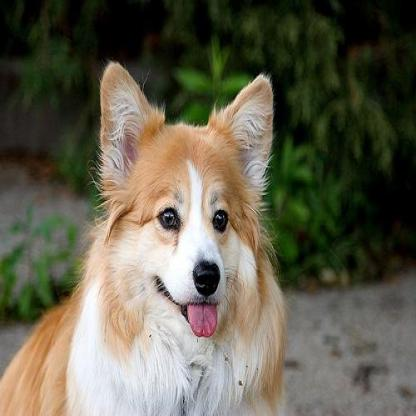Pembroke: (0, 57, 288, 411)
